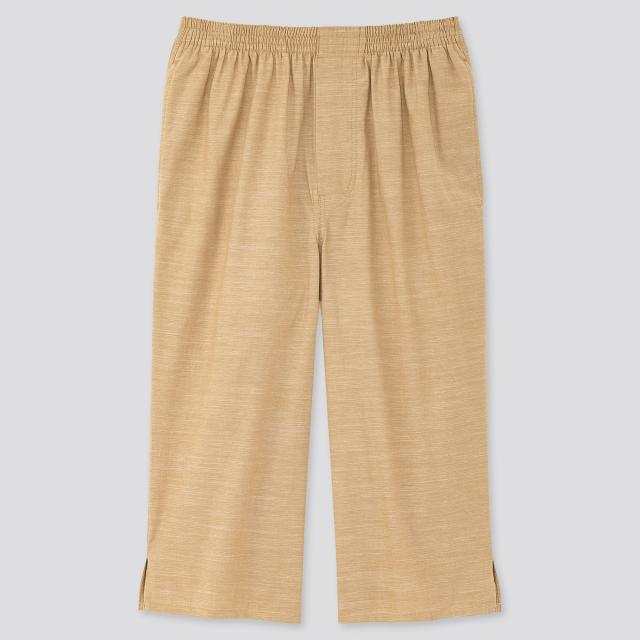long-pants: (137, 16, 503, 628)
